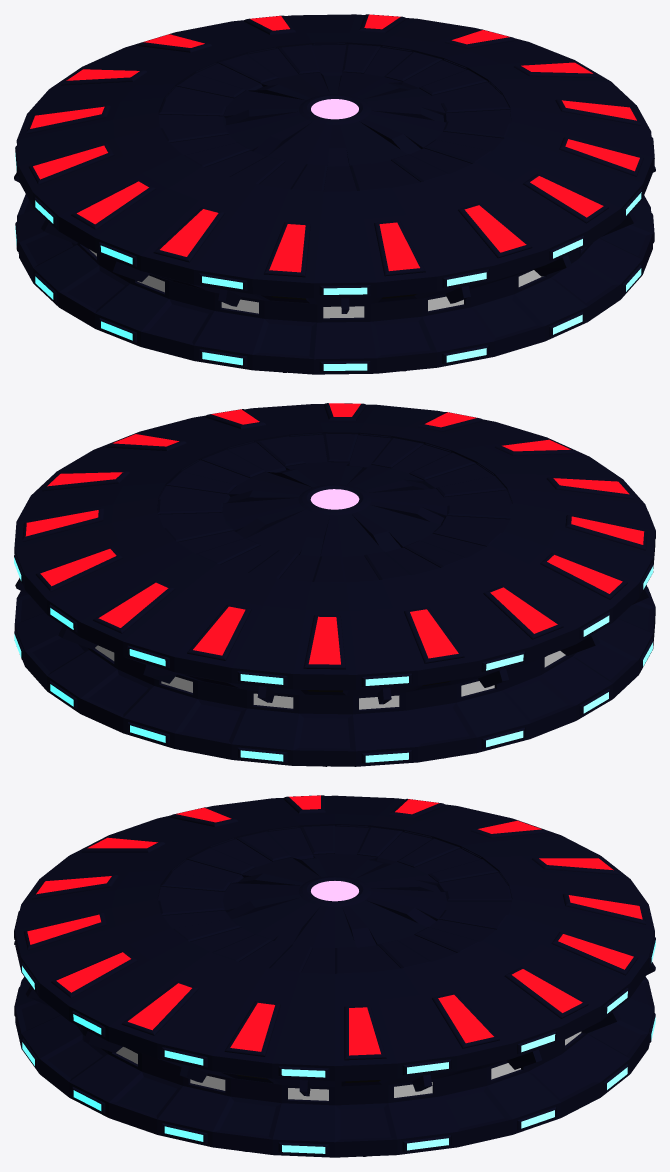
Rendered from ufo test4.fbx.
The picture shows the model from 3 angles, top to bottom: view 1: azimuth 30°, elevation 25°; view 2: azimuth 150°, elevation 25°; view 3: azimuth 270°, elevation 25°; orthographic projection.
Parts seen in each view (by area): view 1: Cylinder; view 2: Cylinder; view 3: Cylinder.
Part boxes in pixels (bbox=[...]): Cylinder: bbox=[14, 14, 655, 374]; Cylinder: bbox=[14, 403, 655, 766]; Cylinder: bbox=[14, 795, 655, 1157].
Bounding box in the file's own units: 943 × 252 × 943.
